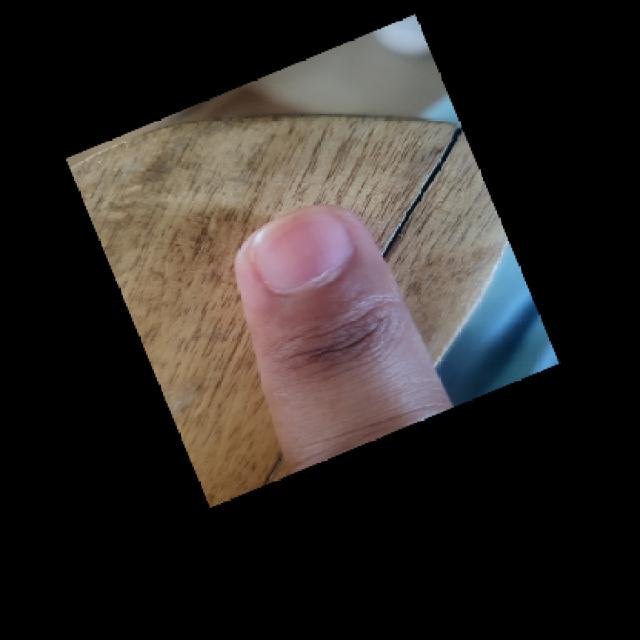Nail: (250, 206, 353, 293)
